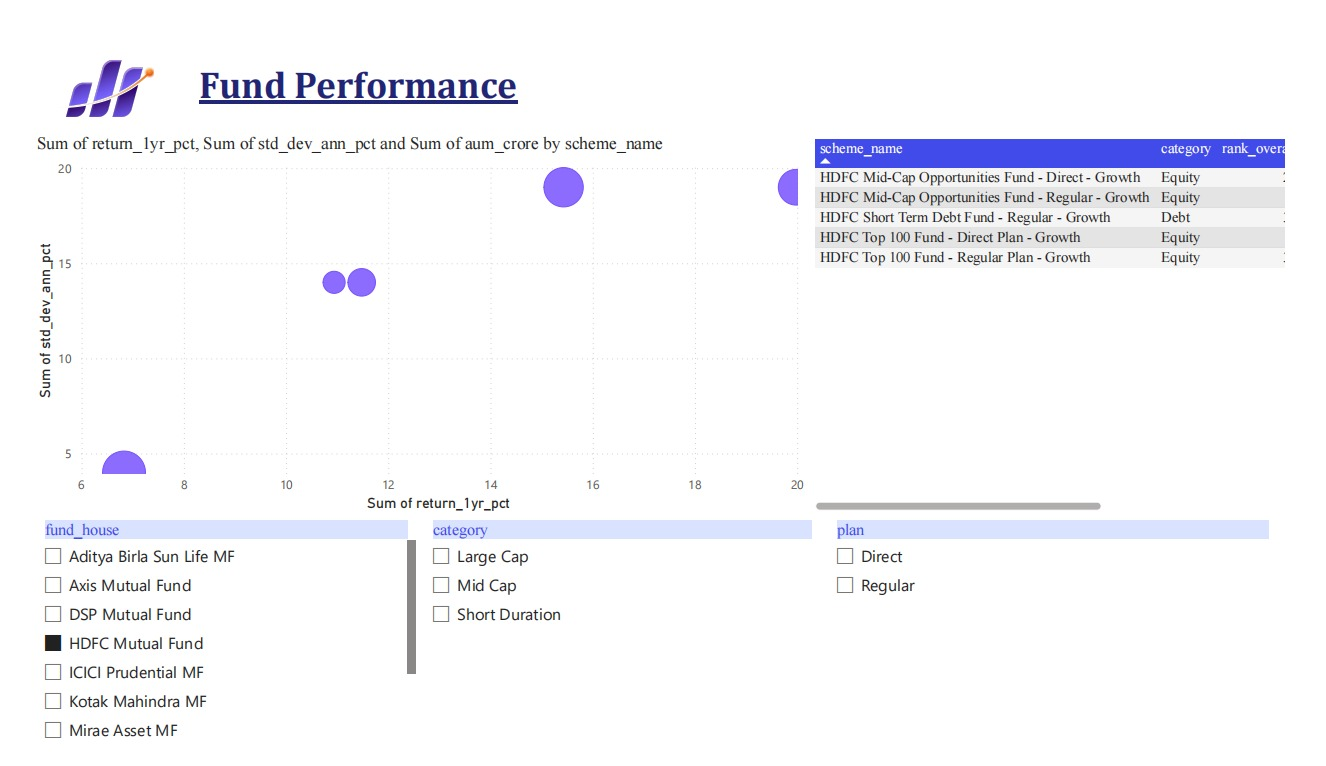

The dashboard page shown, as its layout file describes it:
{"tool":"powerbi","page":{"name":"Fund Performance","canvas":[1280,720],"ordinal":1},"visuals":[{"type":"scatterChart","fields":{"X":["Sum(clean_scheme_perf.return_1yr_pct)"],"Y":["Sum(clean_scheme_perf.std_dev_ann_pct)"],"Size":["Sum(clean_scheme_perf.aum_crore)"],"Category":["clean_scheme_perf.scheme_name"]},"box":[9.5,111.8,775.1,381.2],"z":0},{"type":"slicer","fields":{"Values":["clean_scheme_perf.fund_house"]},"box":[9.5,493.1,387.5,226.8],"z":1},{"type":"slicer","fields":{"Values":["clean_scheme_perf.category"]},"box":[397,493.1,403.3,226.8],"z":2},{"type":"slicer","fields":{"Values":["clean_scheme_perf.plan"]},"box":[800.3,493.1,456.8,226.8],"z":3},{"type":"tableEx","fields":{"Values":["fund_scorecard.scheme_name","fund_scorecard.category","fund_scorecard.rank_overall","fund_scorecard.composite_score","fund_scorecard.cagr_3yr_pct","fund_scorecard.sharpe_ratio"]},"box":[784.5,111.8,480.5,381.2],"z":4},{"type":"image","box":[23.6,14.2,107.1,104],"z":5},{"type":"textbox","box":[130.8,36.2,1126.4,61.4],"z":6}]}

Visuals, with their boxes in screenshot pixels (x1, y1, x2, y2), scaled from the page's 1280x720 canvas onto the 1326x766 screenshot:
scatterChart - Sum(clean_scheme_perf.return_1yr_pct) x Sum(clean_scheme_perf.std_dev_ann_pct): locate(10, 119, 813, 524)
slicer - clean_scheme_perf.fund_house: locate(10, 525, 411, 765)
slicer - clean_scheme_perf.category: locate(411, 525, 829, 765)
slicer - clean_scheme_perf.plan: locate(829, 525, 1302, 765)
tableEx - fund_scorecard.scheme_name x fund_scorecard.category: locate(813, 119, 1310, 524)
image: locate(24, 15, 135, 126)
textbox: locate(136, 39, 1302, 104)
